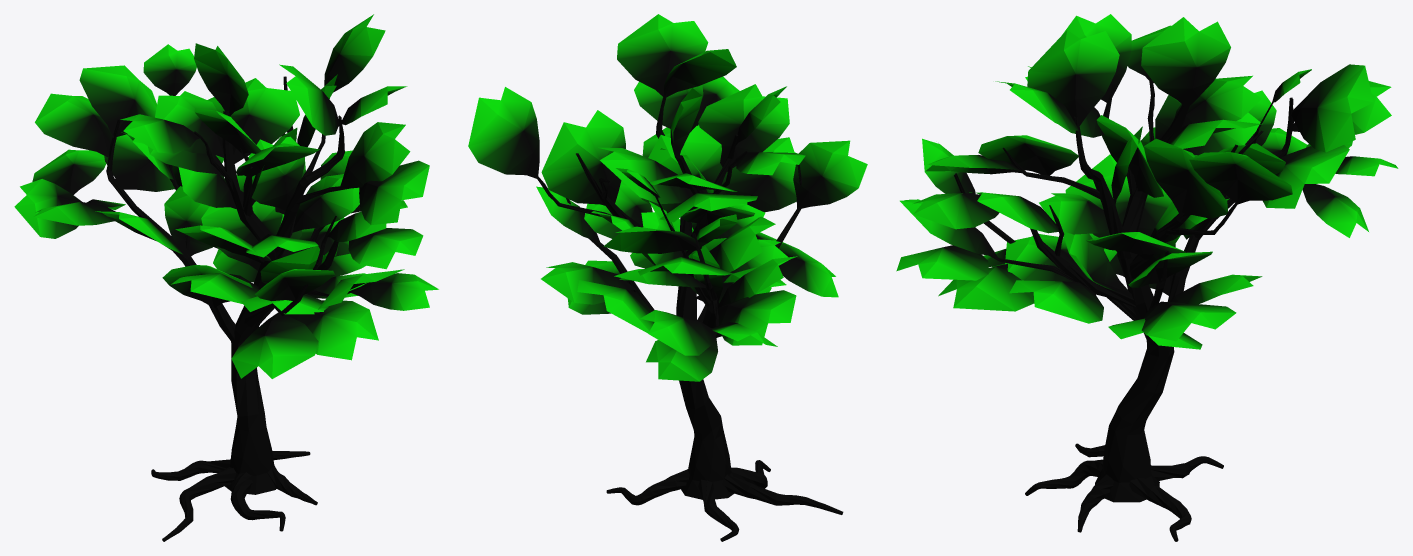
File: SM_Tree_02.fbx
3 renders of one model, left to right at view 1: azimuth 30°, elevation 25°; view 2: azimuth 150°, elevation 25°; view 3: azimuth 270°, elevation 25°, orthographic. The views are drawn at different scales.
Parts seen in each view (by area): view 1: SM_Tree_02; view 2: SM_Tree_02; view 3: SM_Tree_02.
Part boxes in pixels (x1,y1,x2,y2): SM_Tree_02: (14, 14, 438, 541); SM_Tree_02: (468, 14, 867, 541); SM_Tree_02: (896, 14, 1398, 541).
Bounding box in the file's own units: 439 × 564 × 526.
